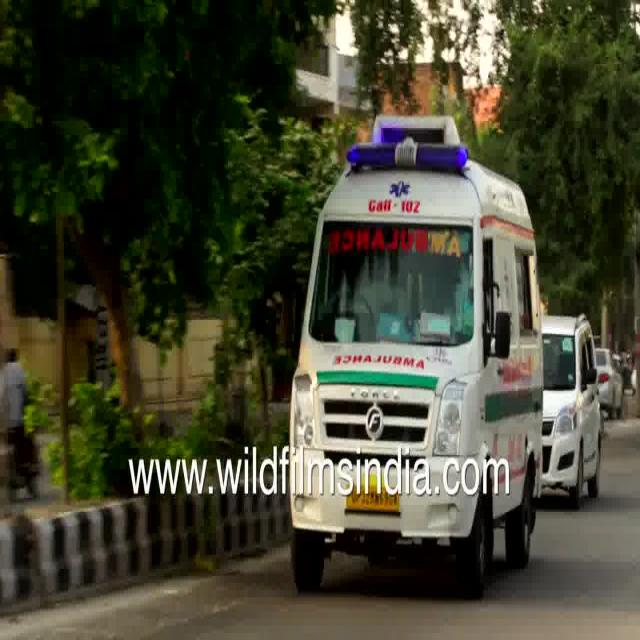ambulance: (269, 110, 538, 438)
